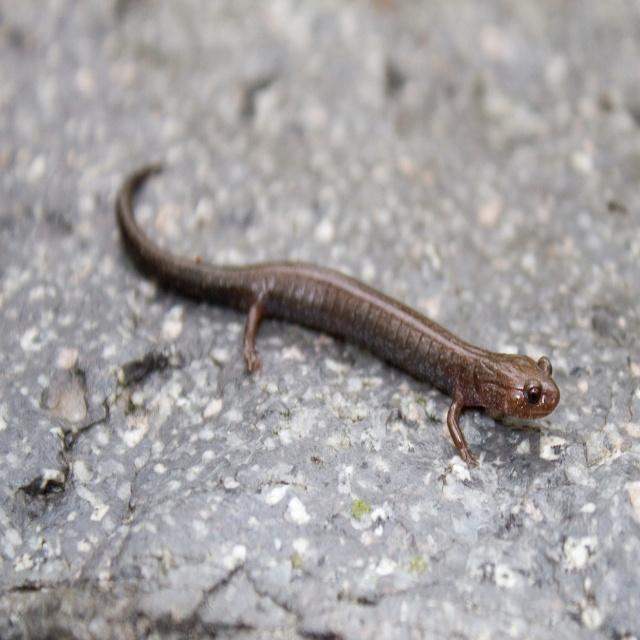Lizard: (115, 157, 561, 464)
